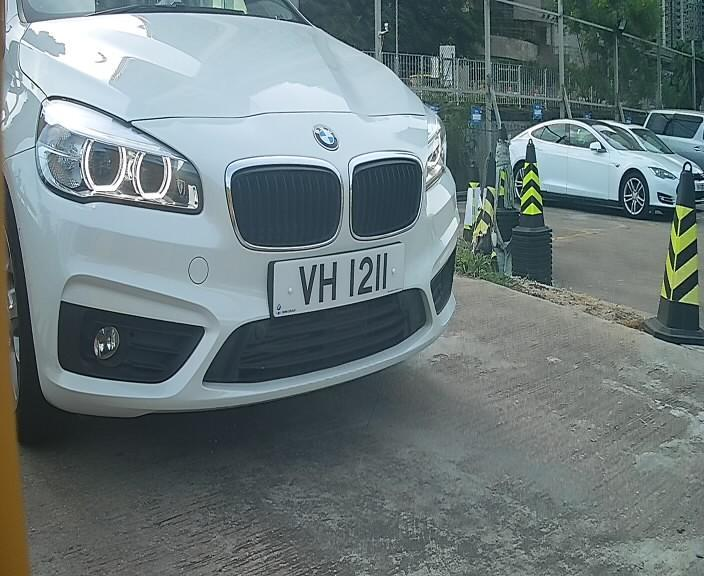privatecar: (1, 13, 541, 438)
